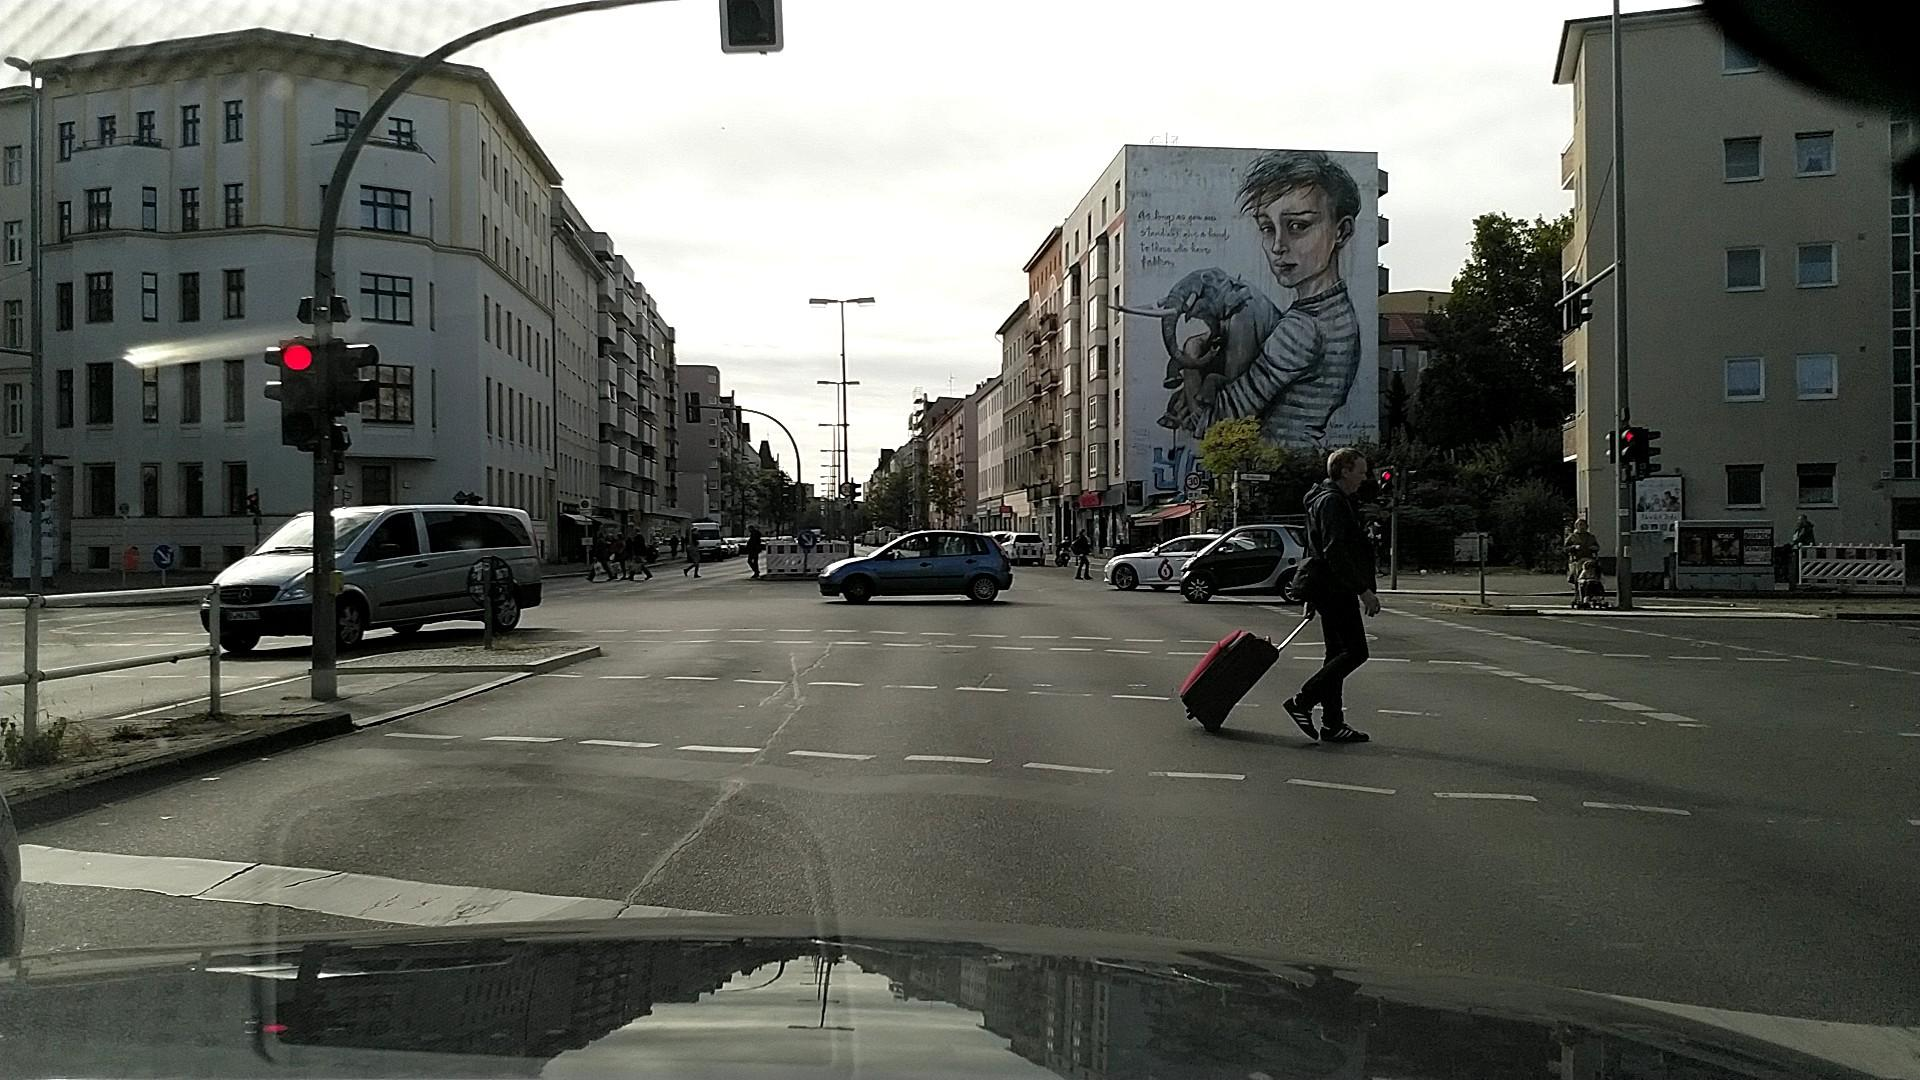Human face: (1246, 172, 1356, 288), (1326, 448, 1368, 494), (1574, 518, 1587, 532), (1584, 561, 1596, 574), (914, 539, 927, 551), (632, 526, 641, 536), (747, 525, 755, 532), (615, 533, 622, 539), (605, 534, 613, 541), (691, 528, 698, 534), (596, 532, 603, 538)
Vehicle registration plate: (223, 611, 261, 621)
